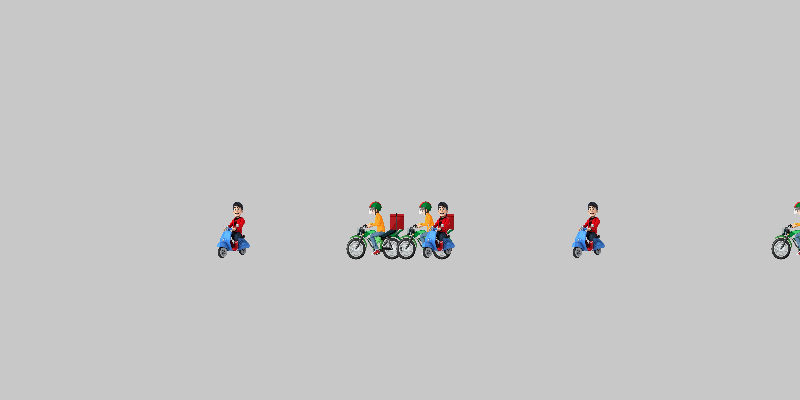helmet: (345, 200, 405, 260), (395, 200, 455, 260), (770, 200, 800, 260)
no_helmet: (205, 200, 265, 260), (410, 200, 470, 260), (560, 200, 620, 260)
